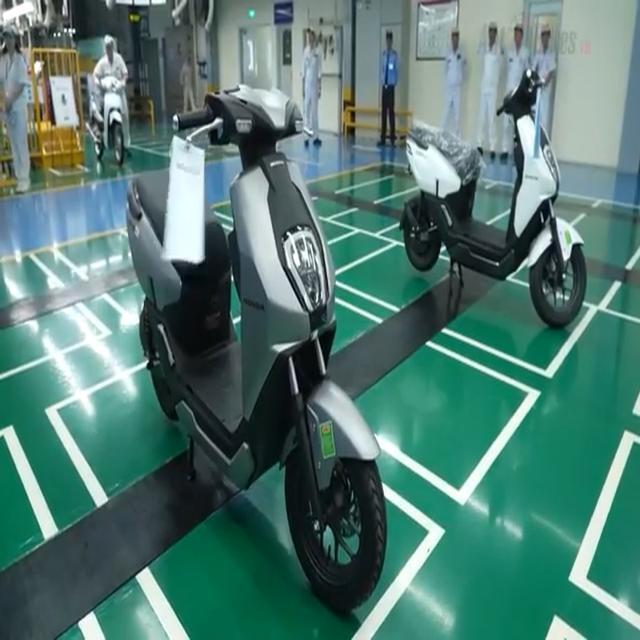motorcycle: (120, 80, 399, 618), (392, 69, 595, 334), (86, 78, 130, 173)
